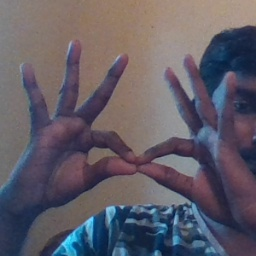B: (71, 103, 214, 201)
